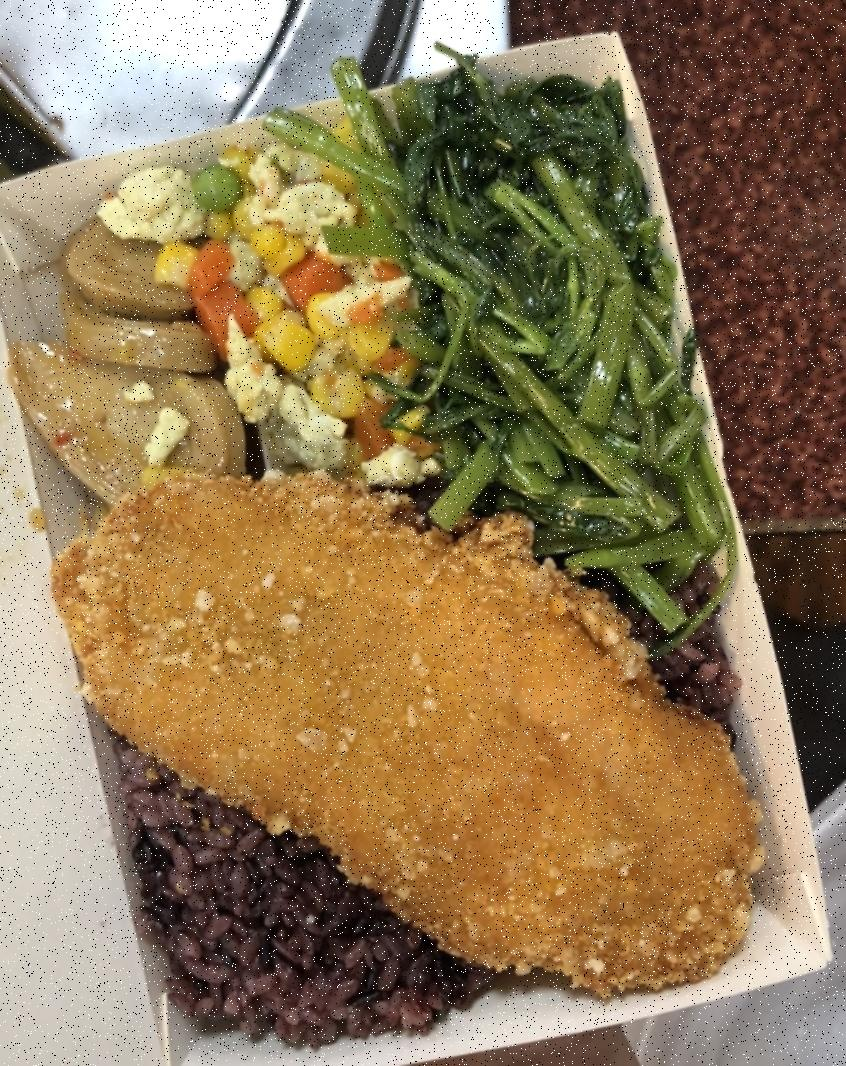box: (0, 23, 846, 1066)
chicken steak: (65, 456, 772, 998)
purple rice: (108, 540, 734, 1052)
side dish: (350, 75, 700, 606), (212, 123, 402, 477), (21, 186, 246, 482)
